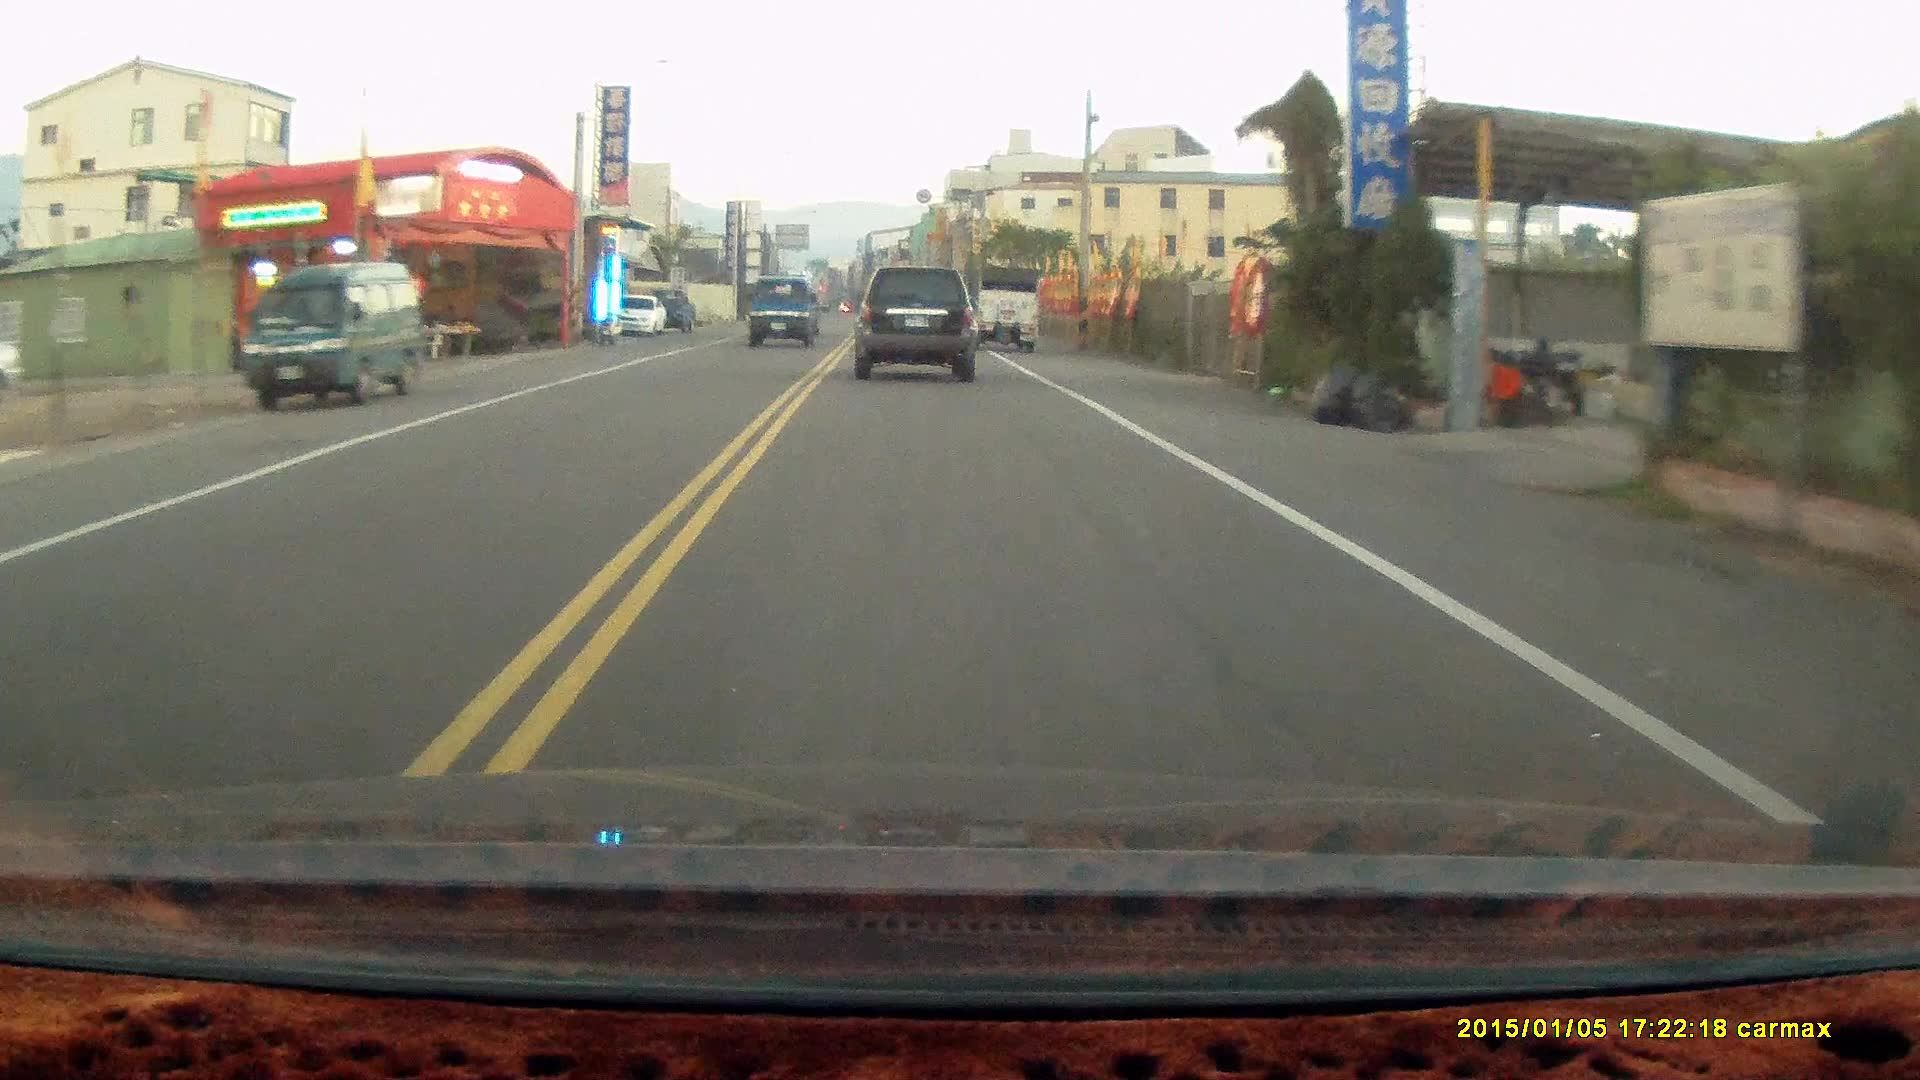vehicle: (240, 262, 429, 415), (856, 266, 978, 380), (949, 262, 1043, 353), (748, 281, 824, 357), (607, 293, 669, 338)
